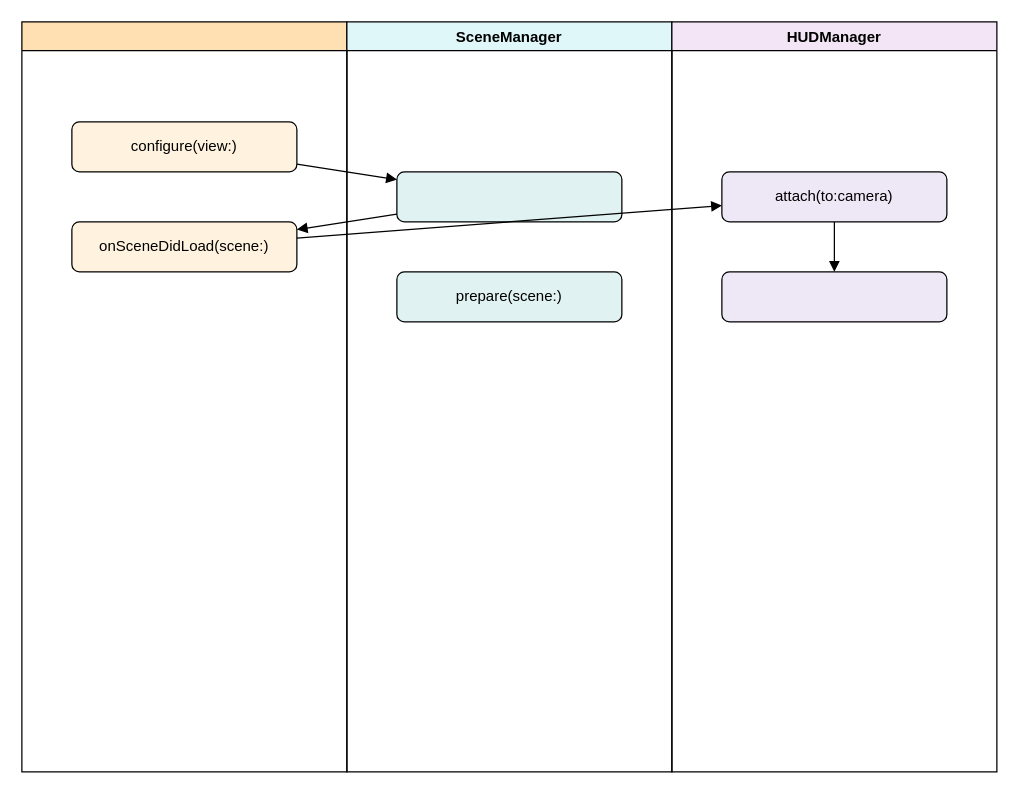
Some shapes in this 1019 by 794 pixel diagram are drawn without their labels. Each missing label, with the box of its shape:
GameManager: (21, 21, 347, 772)
loadScene(name:): (396, 171, 622, 222)
showGameUI(): (721, 271, 947, 322)
